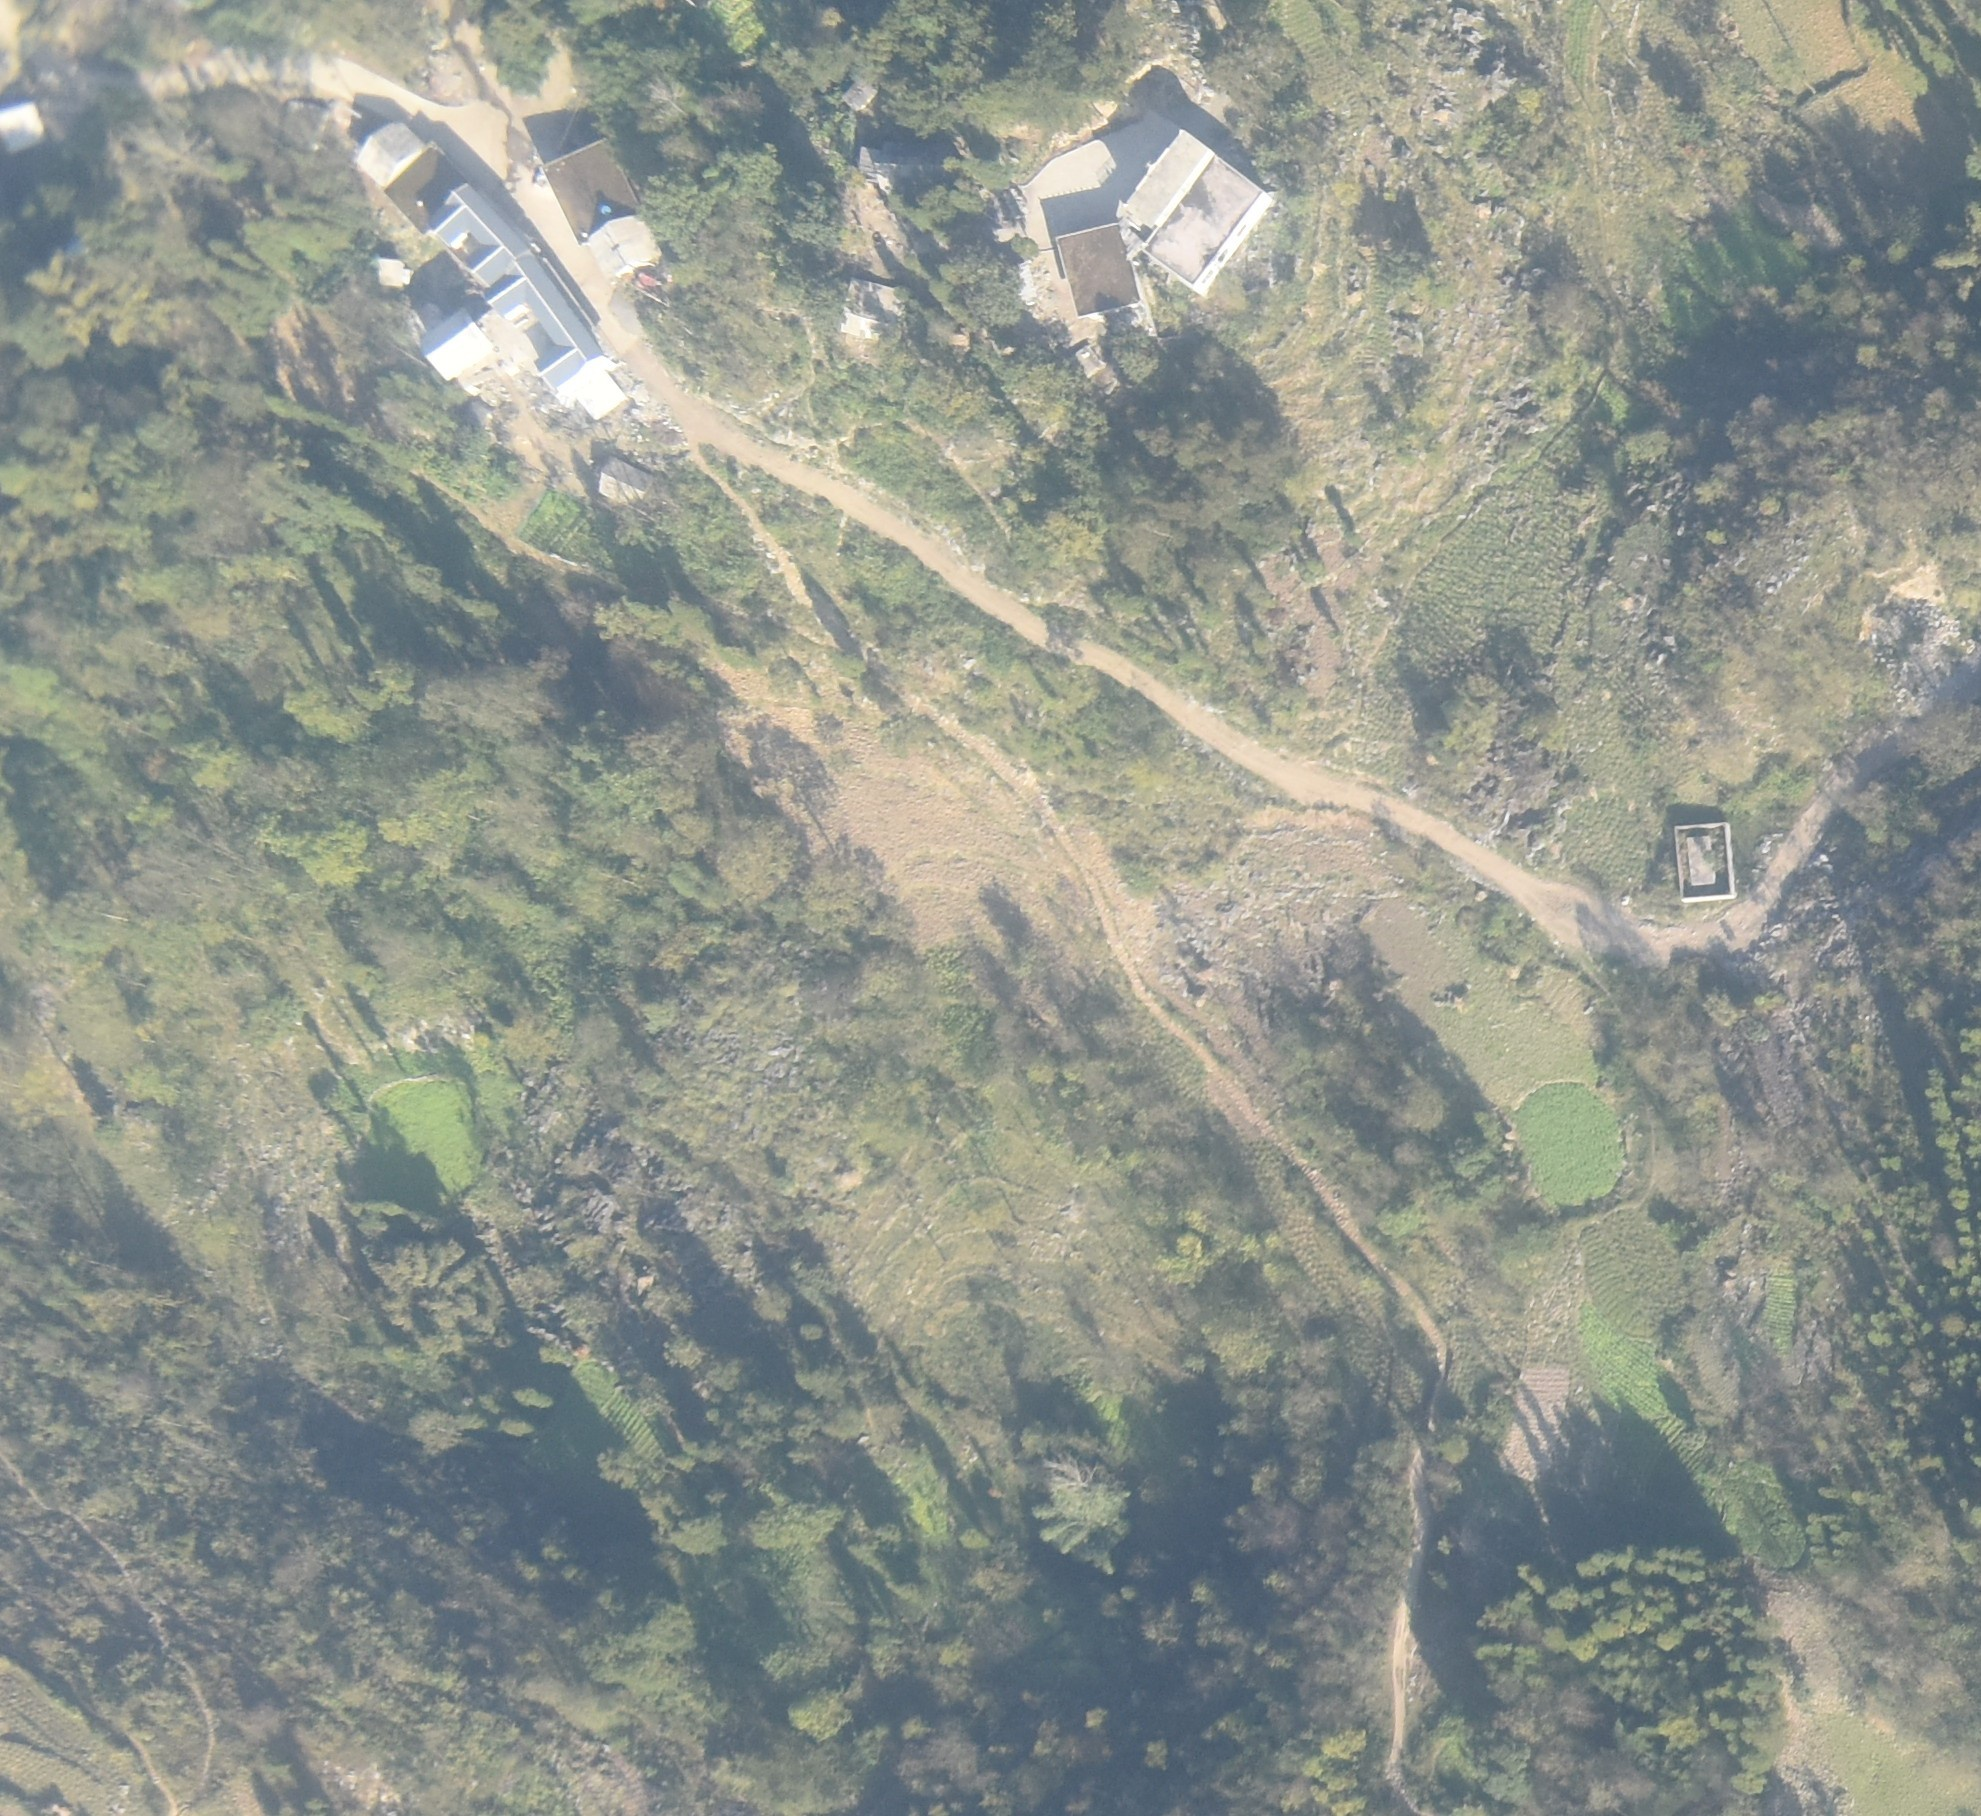building: (438, 181, 623, 414), (1134, 136, 1261, 293), (542, 131, 657, 271), (1060, 223, 1139, 314), (390, 142, 462, 228), (419, 304, 495, 380), (863, 147, 970, 200), (839, 278, 908, 349), (1674, 823, 1734, 903), (357, 117, 419, 183), (276, 102, 331, 167), (357, 255, 411, 292), (5, 102, 41, 148)
